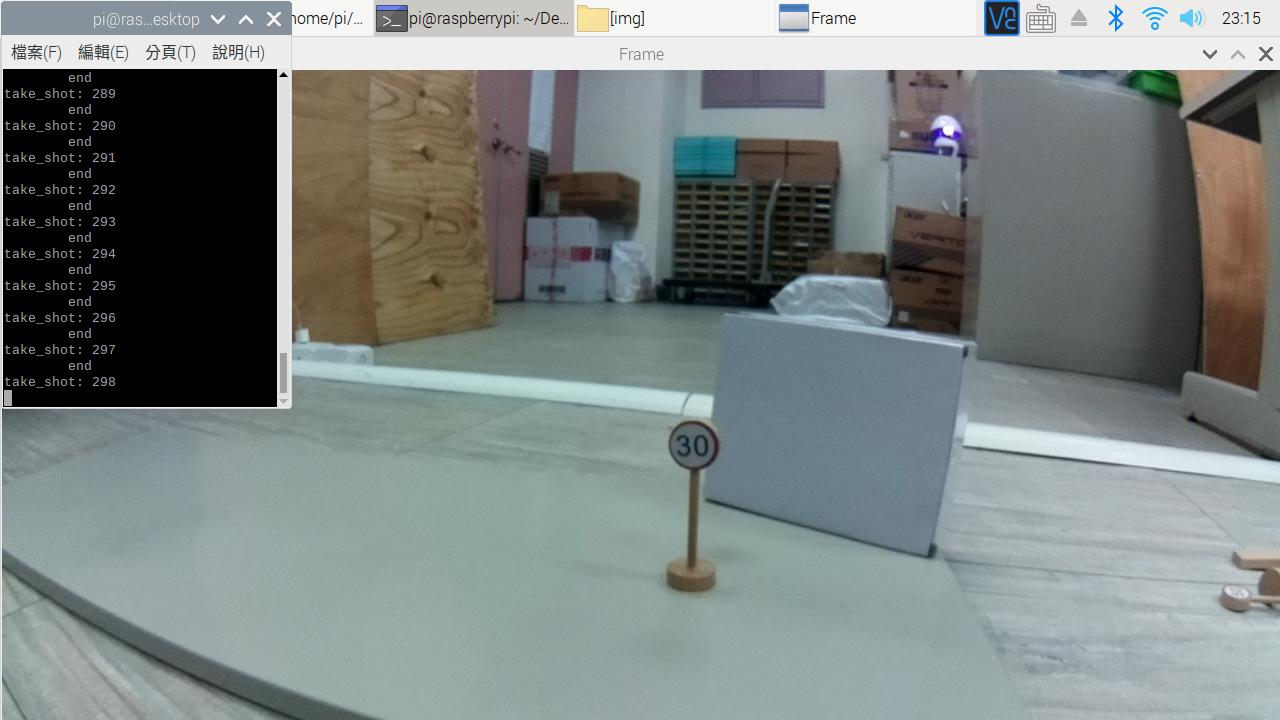Speed30: (657, 413, 746, 494)
